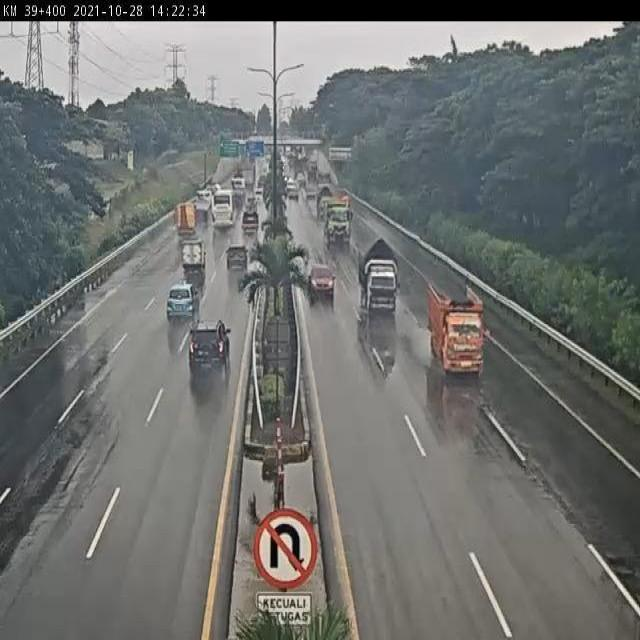big bus: (210, 189, 238, 227)
car: (186, 318, 230, 371), (167, 282, 202, 322), (307, 262, 336, 302), (180, 240, 206, 273), (225, 243, 249, 272)
truck-l-: (323, 197, 354, 247)
truck-m-: (356, 235, 397, 312)
truck-s-: (426, 278, 486, 378), (174, 201, 197, 235), (241, 212, 258, 235)
